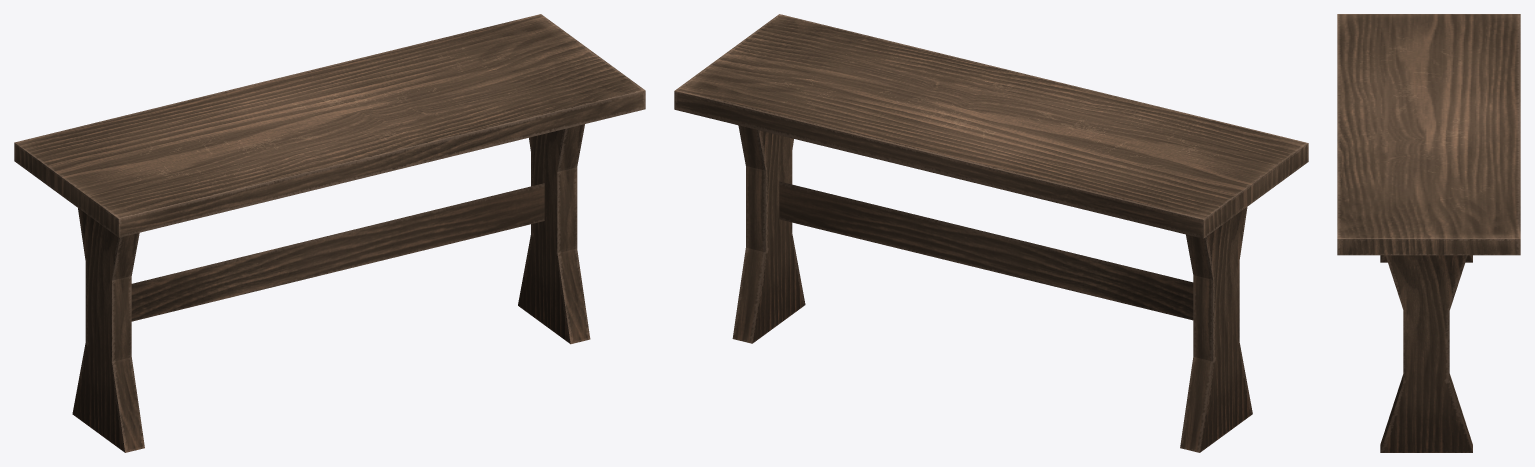
The model's file is Church.Table.fbx.
The picture shows the model from 3 angles, left to right: view 1: azimuth 30°, elevation 25°; view 2: azimuth 150°, elevation 25°; view 3: azimuth 270°, elevation 25°; orthographic projection. The views are drawn at different scales.
Visible parts, largest first — view 1: Church.Table; view 2: Church.Table; view 3: Church.Table.
Boxes of the visible parts, left/top/right/bottom form: Church.Table: left=14, top=14, right=645, bottom=452; Church.Table: left=674, top=14, right=1308, bottom=452; Church.Table: left=1337, top=14, right=1520, bottom=452.
Size of the model in its own units: 157 by 73.76 by 53.87.
